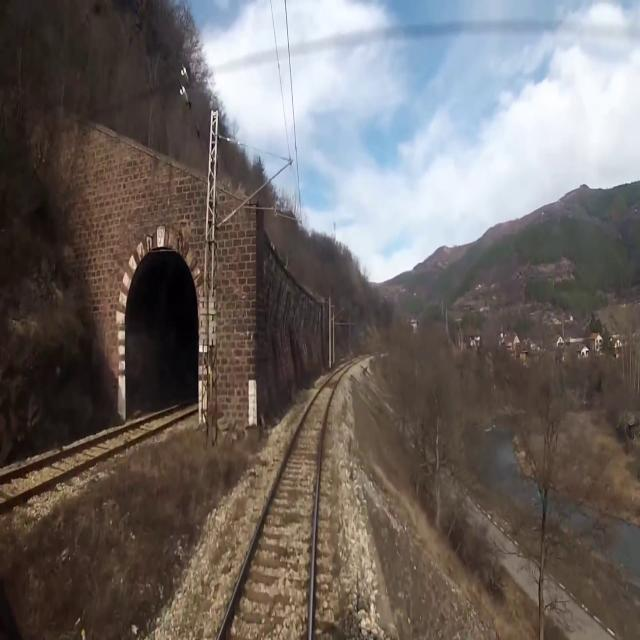rail-track: (221, 374, 339, 639), (0, 404, 198, 501)
